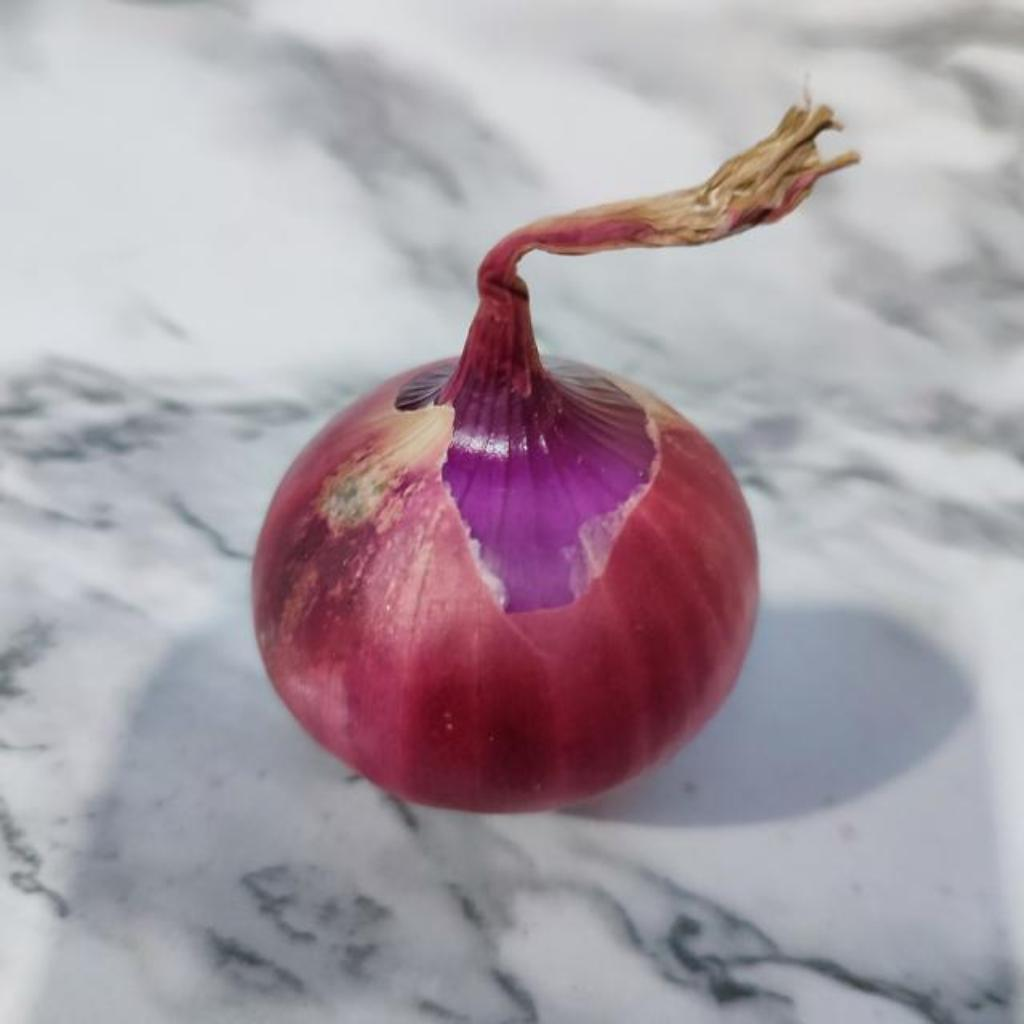Onion: (253, 106, 859, 814)
